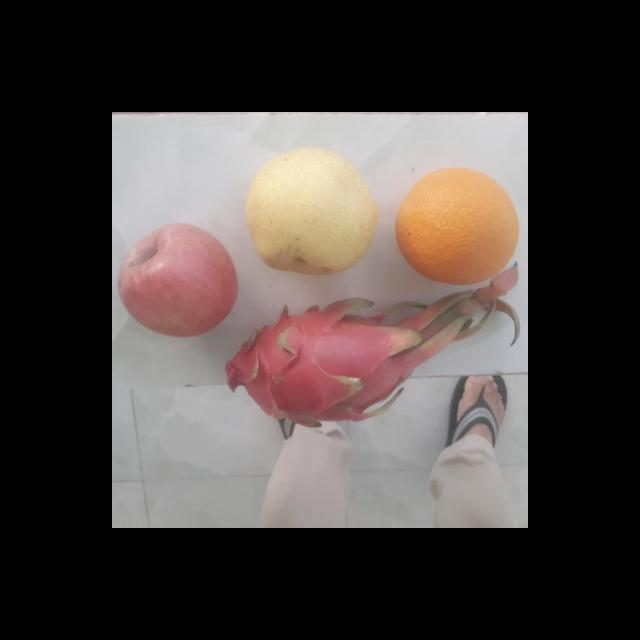apple: (114, 220, 239, 338)
orange: (392, 168, 522, 283)
pear: (237, 148, 381, 274)
pitaya: (218, 304, 394, 428)
